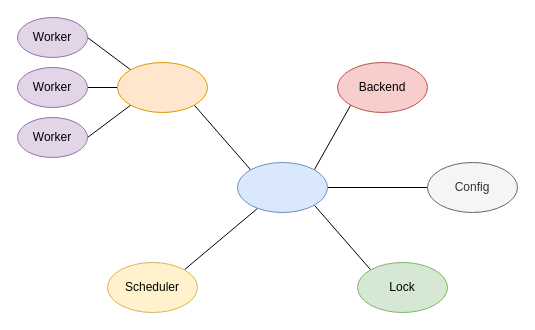
This 535x330 diagram has some shape labels left out. Here are the shapes that lost their labels. From the top down, the box of each, then its label:
(116, 62, 208, 112): Broker
(236, 162, 328, 212): Server
